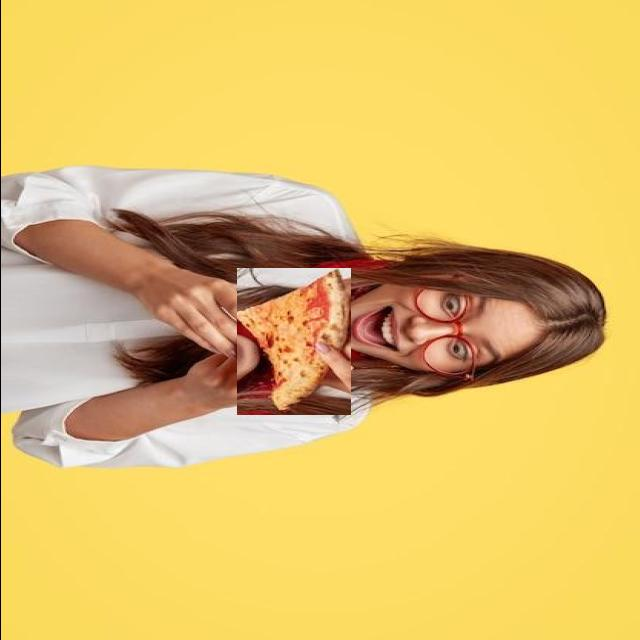pizza: (236, 268, 350, 415)
